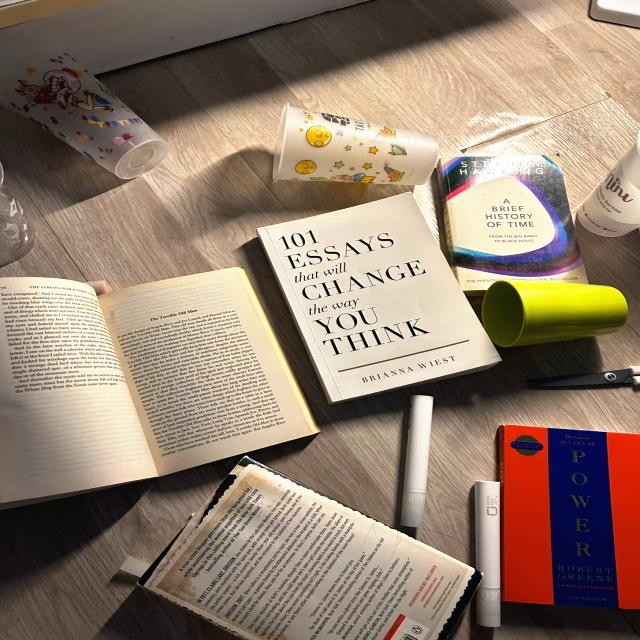Book: (0, 268, 319, 506), (121, 456, 481, 640), (258, 192, 500, 403), (497, 425, 639, 610), (441, 156, 587, 294)
HighLight Pen: (400, 395, 433, 528), (474, 481, 500, 628), (87, 281, 110, 295)
Plastic Cup: (0, 46, 167, 178), (273, 104, 437, 185), (576, 132, 639, 237), (0, 162, 35, 267)
Scissors: (526, 367, 639, 391)
WaterGlass: (482, 280, 627, 348)
